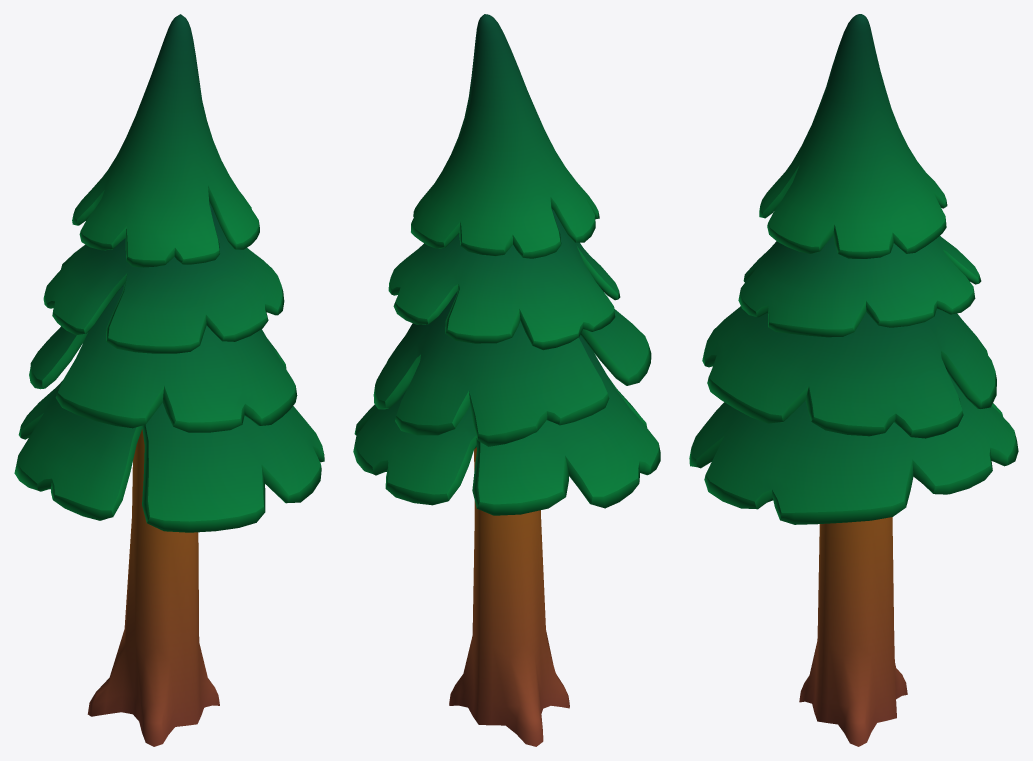
The model's file is Spruce.fbx.
3 views of the same model, side by side, from view 1: azimuth 30°, elevation 25°; view 2: azimuth 150°, elevation 25°; view 3: azimuth 270°, elevation 25° (orthographic). The views are drawn at different scales.
Parts seen in each view (by area): view 1: Circle.075, Circle.076; view 2: Circle.075, Circle.076; view 3: Circle.075, Circle.076.
Part boxes in pixels (box(x1,y1,x2,y2)): Circle.075: box(14, 14, 324, 532); Circle.076: box(87, 429, 219, 746); Circle.075: box(353, 14, 660, 515); Circle.076: box(449, 447, 569, 746); Circle.075: box(689, 14, 1018, 524); Circle.076: box(799, 517, 907, 746).
Bounding box in the file's own units: 359 × 894 × 373.
